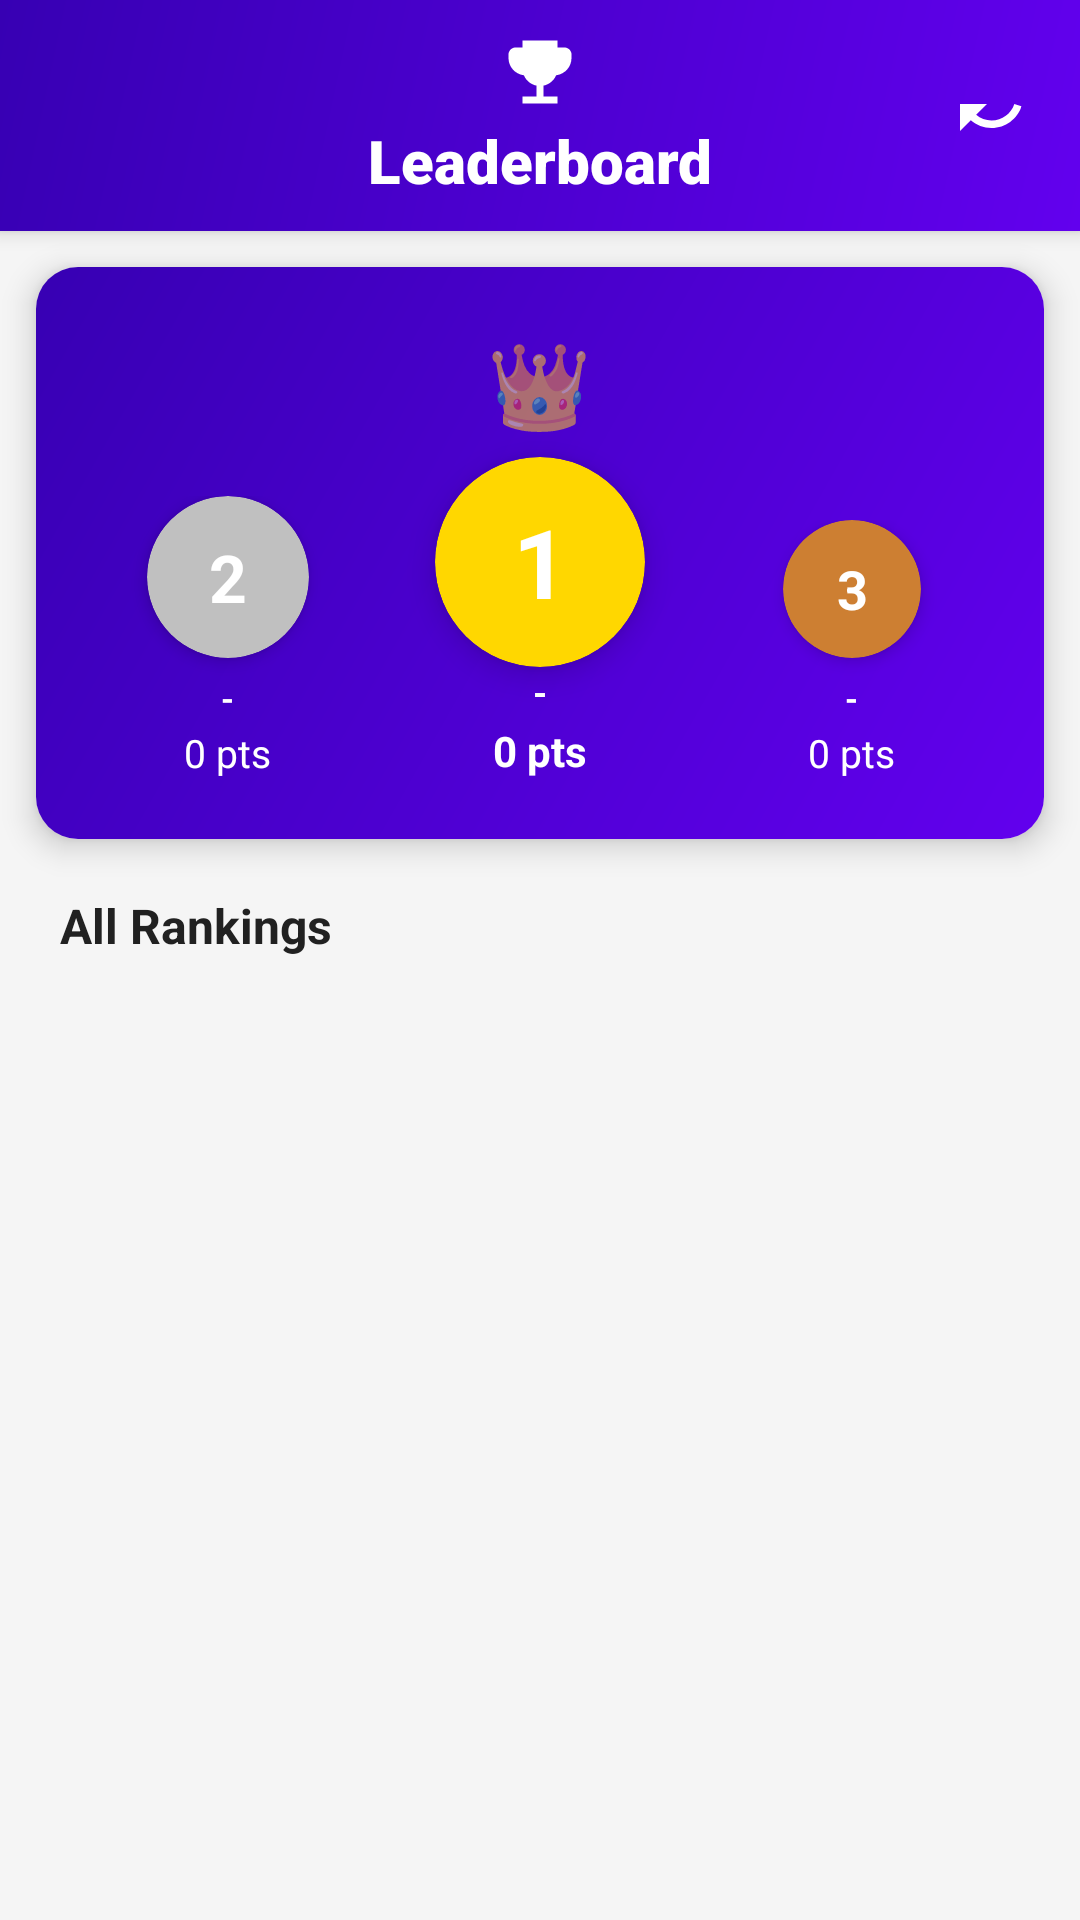

Where icons sit on this 1080*1920 app screen, as bbox=(x1, y1, x2, y2):
trophy: bbox=(508, 40, 572, 104)
